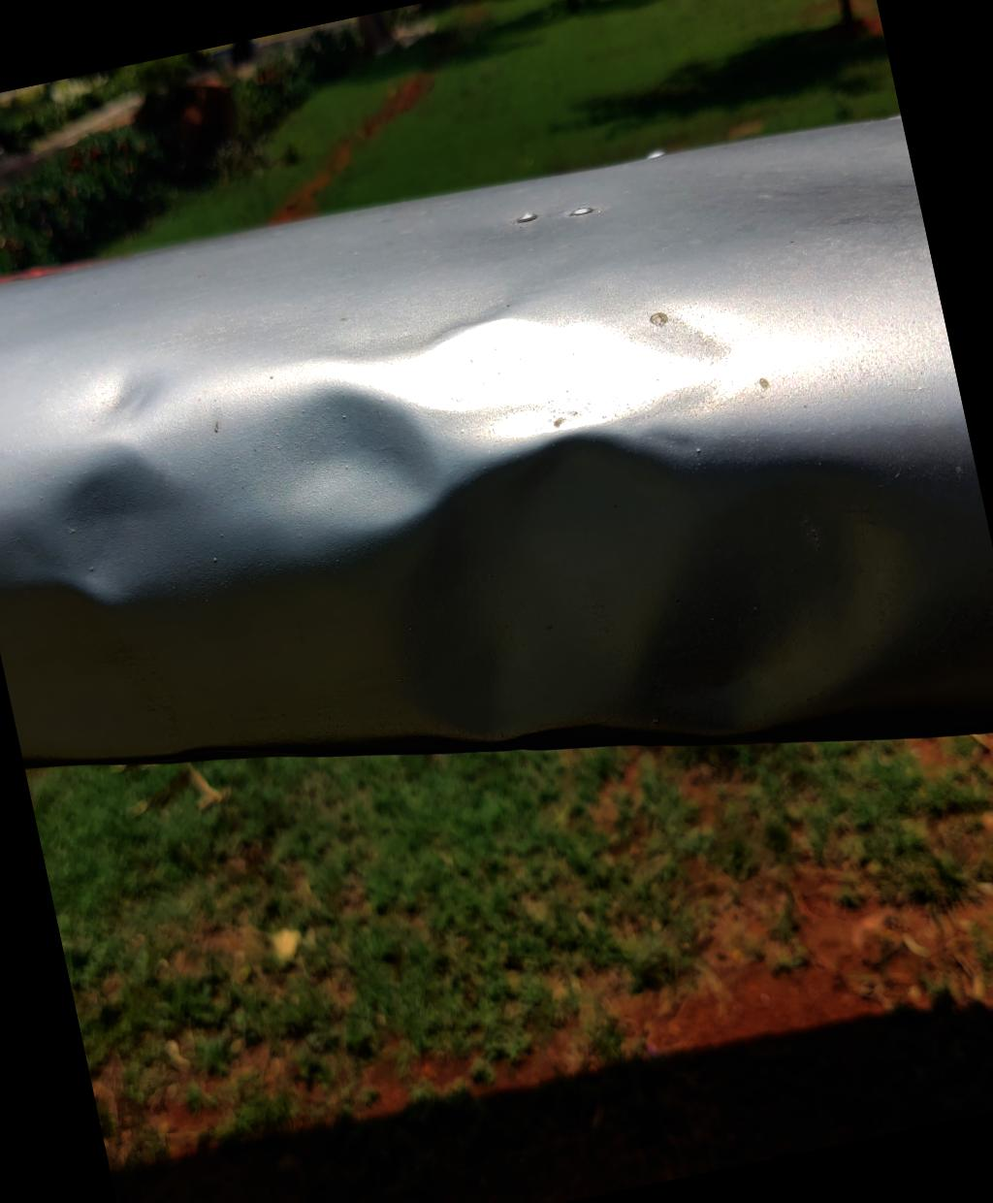dent: (226, 169, 993, 862), (0, 333, 250, 669)
